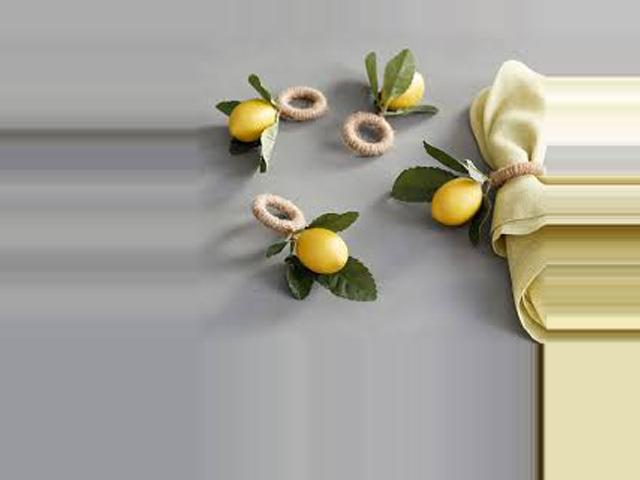lemon: (212, 99, 284, 152)
